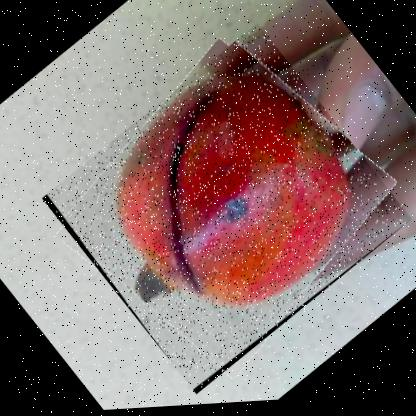pomegranate_rotten: (40, 18, 413, 404)
